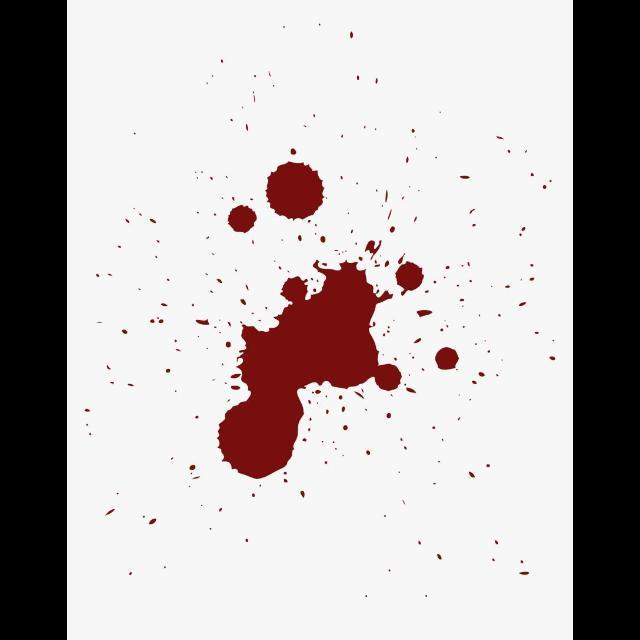blood: (217, 259, 402, 479), (265, 161, 325, 221), (395, 261, 424, 296), (227, 204, 257, 233), (435, 347, 459, 370)
